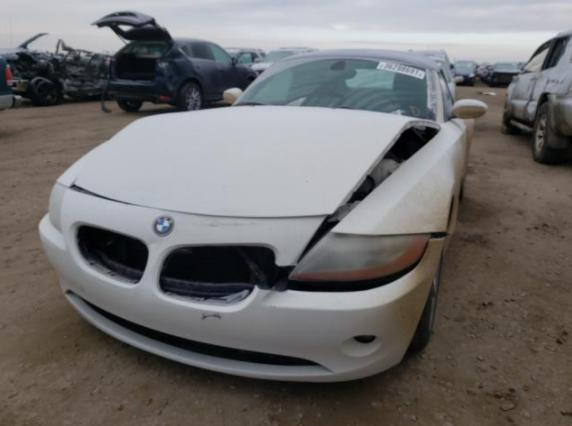Back-wheel: (459, 174, 465, 205)
Fender: (329, 123, 462, 235), (55, 138, 111, 188)
Front-bumper: (37, 187, 447, 384)
Front-door: (433, 65, 468, 177)
Front-wheel: (400, 250, 444, 363)
Front-window: (441, 72, 452, 111)
Headlight: (288, 230, 432, 283), (48, 182, 69, 234)
Hood: (72, 103, 439, 218)
Mirror: (447, 97, 488, 120), (222, 87, 243, 104)
Quarter-panel: (462, 119, 475, 156)
Roof: (269, 47, 442, 69)
Windshield: (231, 56, 438, 121)
